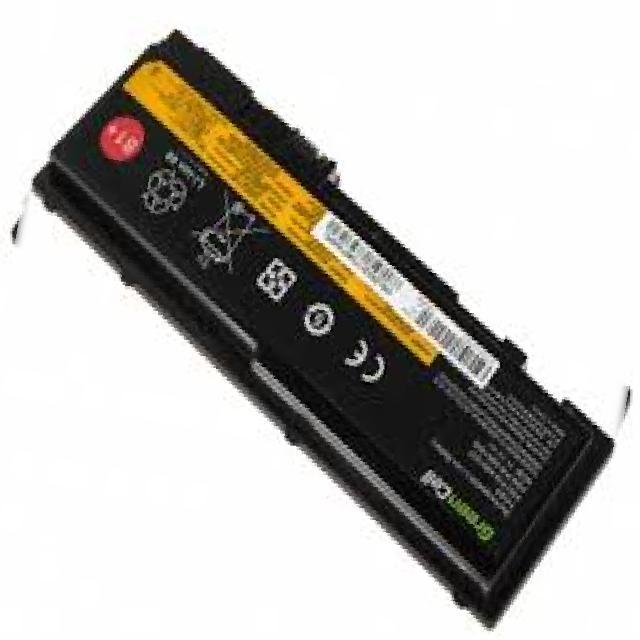Battery: (26, 16, 618, 638)
